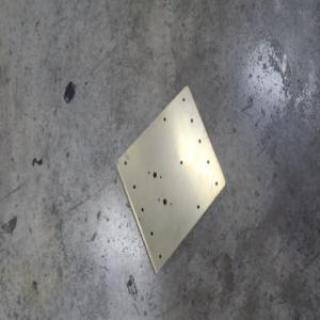MetalSheettrack_idkeyframe: (113, 83, 226, 276)
